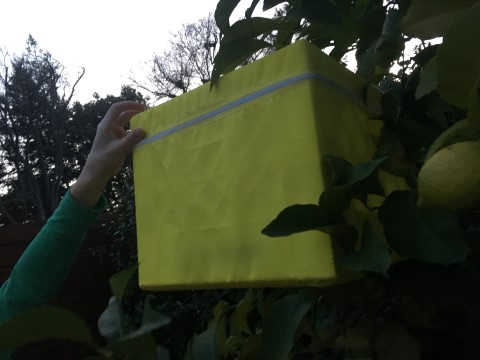cube: (130, 38, 409, 288)
